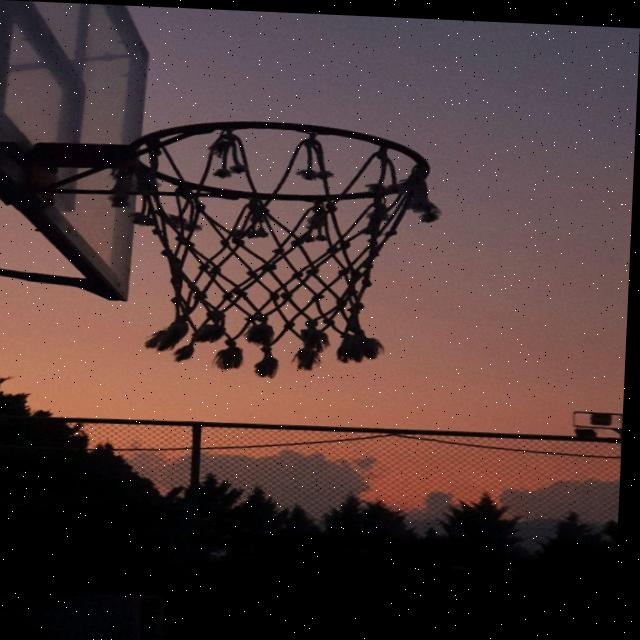hoop: (26, 85, 453, 412)
